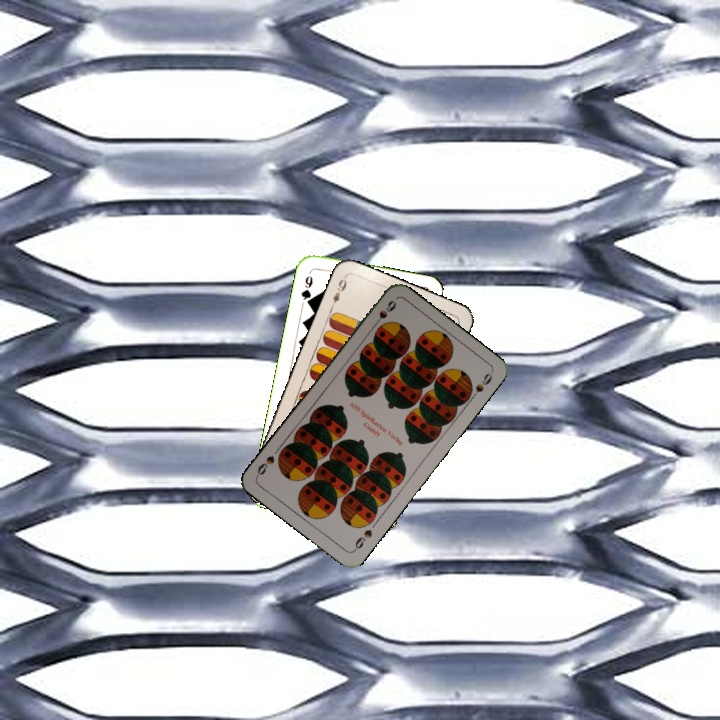E9: (327, 273, 349, 311)
G9: (297, 271, 315, 308)
S9: (369, 296, 399, 330), (350, 525, 375, 554)
